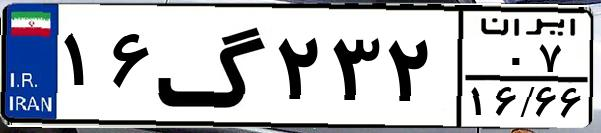0: (508, 27, 537, 80)
1: (57, 26, 110, 100), (470, 70, 495, 125)
2: (270, 28, 330, 110), (385, 28, 445, 110)
3: (330, 28, 385, 110)
6: (110, 28, 156, 98), (560, 70, 590, 125), (495, 70, 520, 125), (535, 70, 560, 125)
7: (537, 27, 568, 80)
گ: (156, 12, 270, 120)
